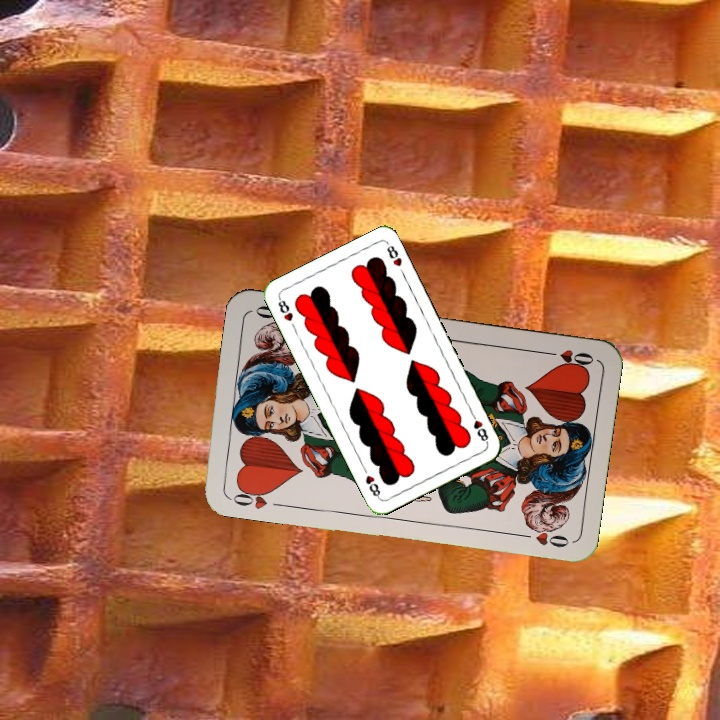H8: (467, 408, 491, 446), (274, 294, 296, 324)
HO: (225, 482, 275, 512), (538, 345, 597, 370)
